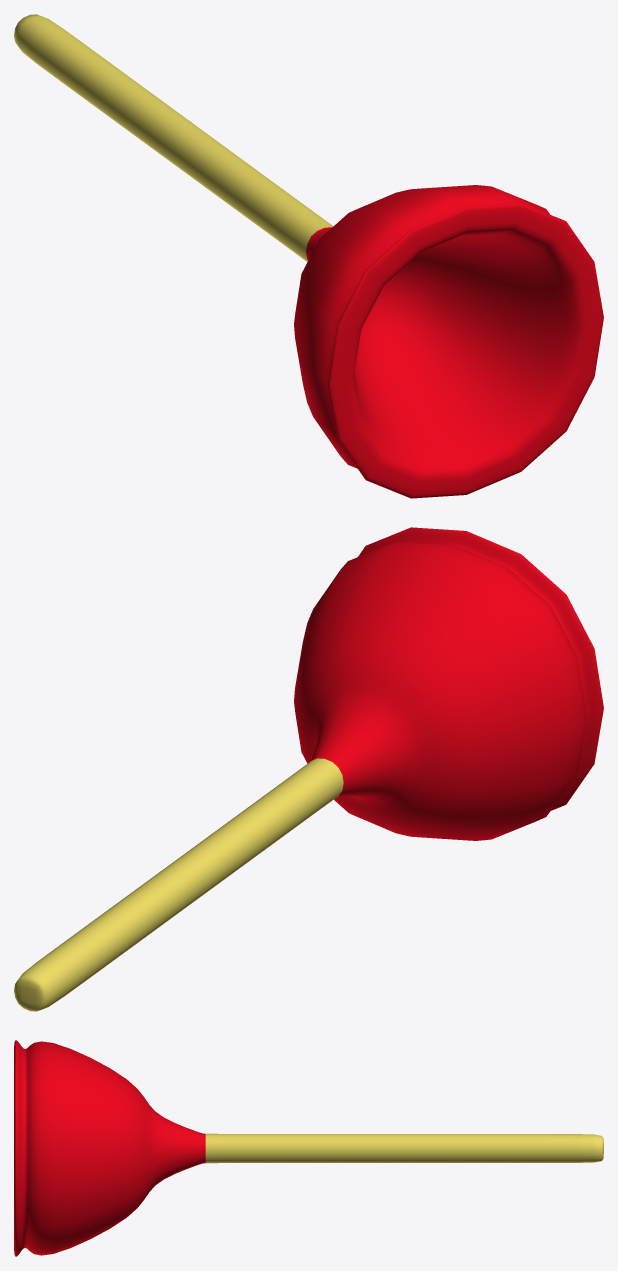
File: sm_hook.fbx
3 views of the same model, one above another, from view 1: azimuth 30°, elevation 25°; view 2: azimuth 150°, elevation 25°; view 3: azimuth 270°, elevation 25° (orthographic). The views are drawn at different scales.
Parts seen in each view (by area): view 1: Plunger_Hook; view 2: Plunger_Hook; view 3: Plunger_Hook.
Part boxes in pixels (x1=…): Plunger_Hook: x1=14, y1=14, x2=603, y2=498; Plunger_Hook: x1=14, y1=527, x2=603, y2=1011; Plunger_Hook: x1=14, y1=1040, x2=603, y2=1256.
Bounding box in the file's own units: 181 × 181 × 500.
